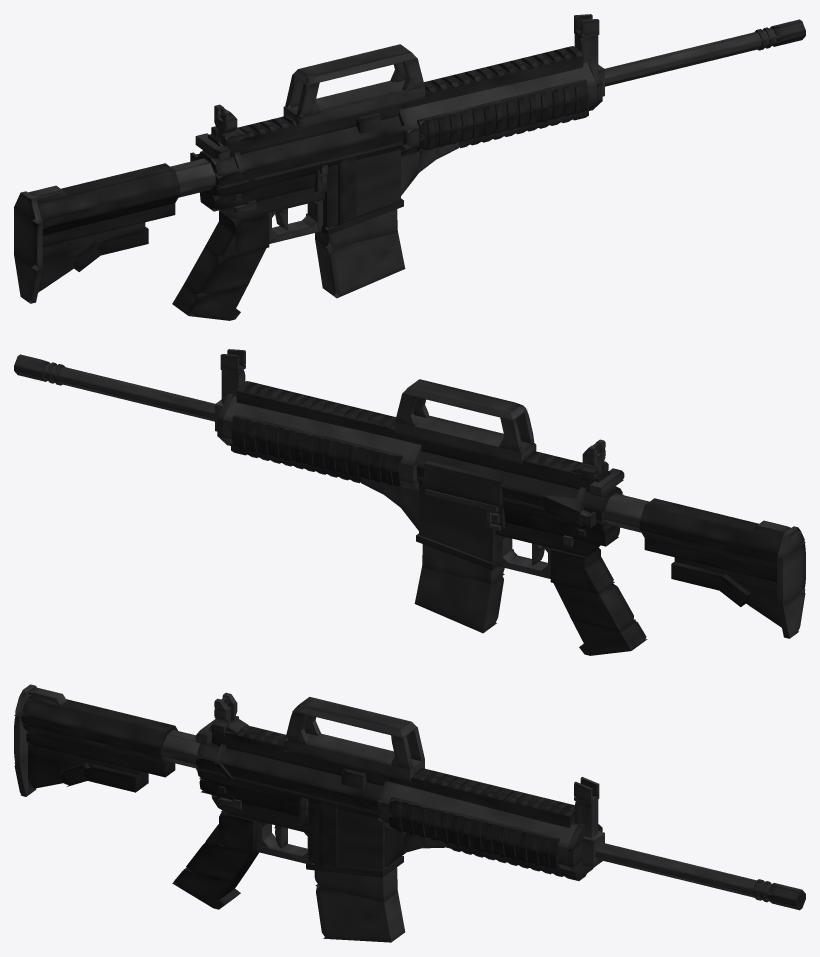
The model's file is mpt76.obj.
The picture shows the model from 3 angles, top to bottom: view 1: azimuth 30°, elevation 25°; view 2: azimuth 150°, elevation 25°; view 3: azimuth 330°, elevation 25°; orthographic projection.
Parts seen in each view (by area): view 1: ammoModel1, gunModel49, gunModel5, gunModel0, defaultScopeModel17, gunModel62, gunModel77, gunModel8, gunModel18, defaultScopeModel22, gunModel127, gunModel1 (+27 smaller); view 2: ammoModel1, gunModel49, gunModel5, defaultScopeModel17, gunModel62, gunModel18, gunModel77, gunModel8, gunModel0, gunModel24, defaultScopeModel22, gunModel157 (+26 smaller); view 3: ammoModel1, gunModel49, gunModel5, defaultScopeModel17, gunModel0, gunModel62, gunModel77, gunModel18, defaultScopeModel22, gunModel127, gunModel32, gunModel52 (+27 smaller).
Boxes of the visible parts, left/top/right/bottom form: ammoModel1: left=315, top=232, right=405, bottom=298; gunModel49: left=28, top=163, right=179, bottom=219; gunModel5: left=317, top=149, right=400, bottom=230; gunModel0: left=196, top=116, right=405, bottom=176; defaultScopeModel17: left=283, top=80, right=424, bottom=129; gunModel62: left=398, top=61, right=596, bottom=130; gunModel77: left=402, top=48, right=583, bottom=108; gunModel8: left=183, top=247, right=266, bottom=296; gunModel18: left=208, top=104, right=402, bottom=156; defaultScopeModel22: left=292, top=44, right=417, bottom=85; gunModel127: left=417, top=79, right=588, bottom=137; gunModel1: left=214, top=131, right=407, bottom=186; ammoModel1: left=414, top=567, right=503, bottom=633; gunModel49: left=640, top=498, right=783, bottom=554; gunModel5: left=419, top=484, right=496, bottom=562; defaultScopeModel17: left=395, top=415, right=536, bottom=464; gunModel62: left=223, top=396, right=421, bottom=465; gunModel18: left=417, top=439, right=611, bottom=491; gunModel77: left=236, top=382, right=417, bottom=443; gunModel8: left=553, top=583, right=635, bottom=631; gunModel0: left=416, top=451, right=623, bottom=511; gunModel24: left=422, top=461, right=503, bottom=506; defaultScopeModel22: left=402, top=379, right=527, bottom=420; gunModel157: left=231, top=414, right=402, bottom=472; ammoModel1: left=316, top=886, right=405, bottom=942; gunModel49: left=21, top=695, right=177, bottom=748; gunModel5: left=309, top=802, right=400, bottom=870; defaultScopeModel17: left=283, top=733, right=424, bottom=781; gunModel0: left=196, top=742, right=382, bottom=801; gunModel62: left=377, top=781, right=578, bottom=847; gunModel77: left=389, top=769, right=574, bottom=827; gunModel18: left=208, top=726, right=389, bottom=785; defaultScopeModel22: left=292, top=697, right=417, bottom=737; gunModel127: left=388, top=797, right=559, bottom=855; gunModel32: left=595, top=842, right=771, bottom=893; gunModel52: left=26, top=732, right=175, bottom=777.
Bounding box in the file's own units: 27.3 × 7.61 × 2.25.
